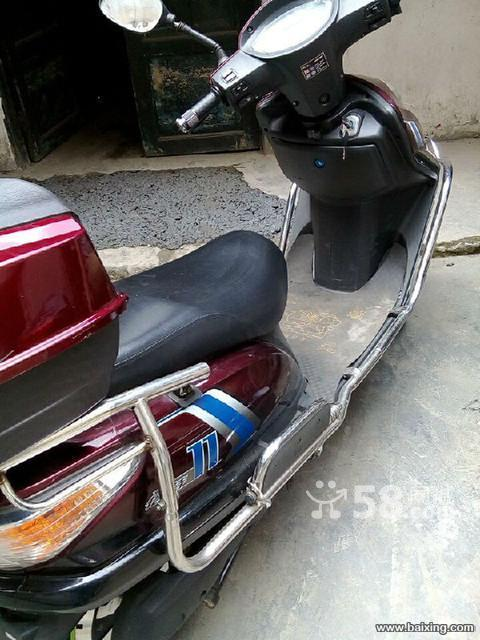电动车: (1, 5, 457, 637)
